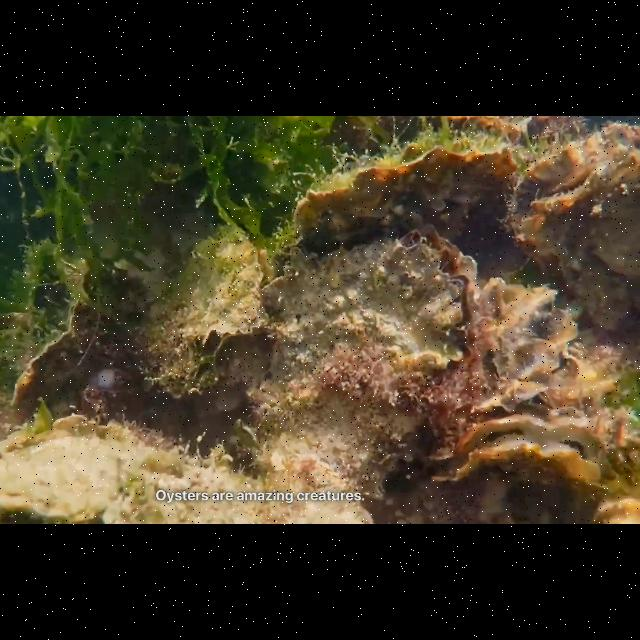Oyster-Closed: (291, 146, 523, 262), (11, 298, 140, 418), (115, 453, 283, 525)
Oyster-Open: (252, 223, 478, 494), (506, 116, 640, 334), (0, 414, 156, 524), (423, 414, 621, 498), (473, 276, 579, 414), (191, 240, 277, 356), (135, 285, 219, 399)
